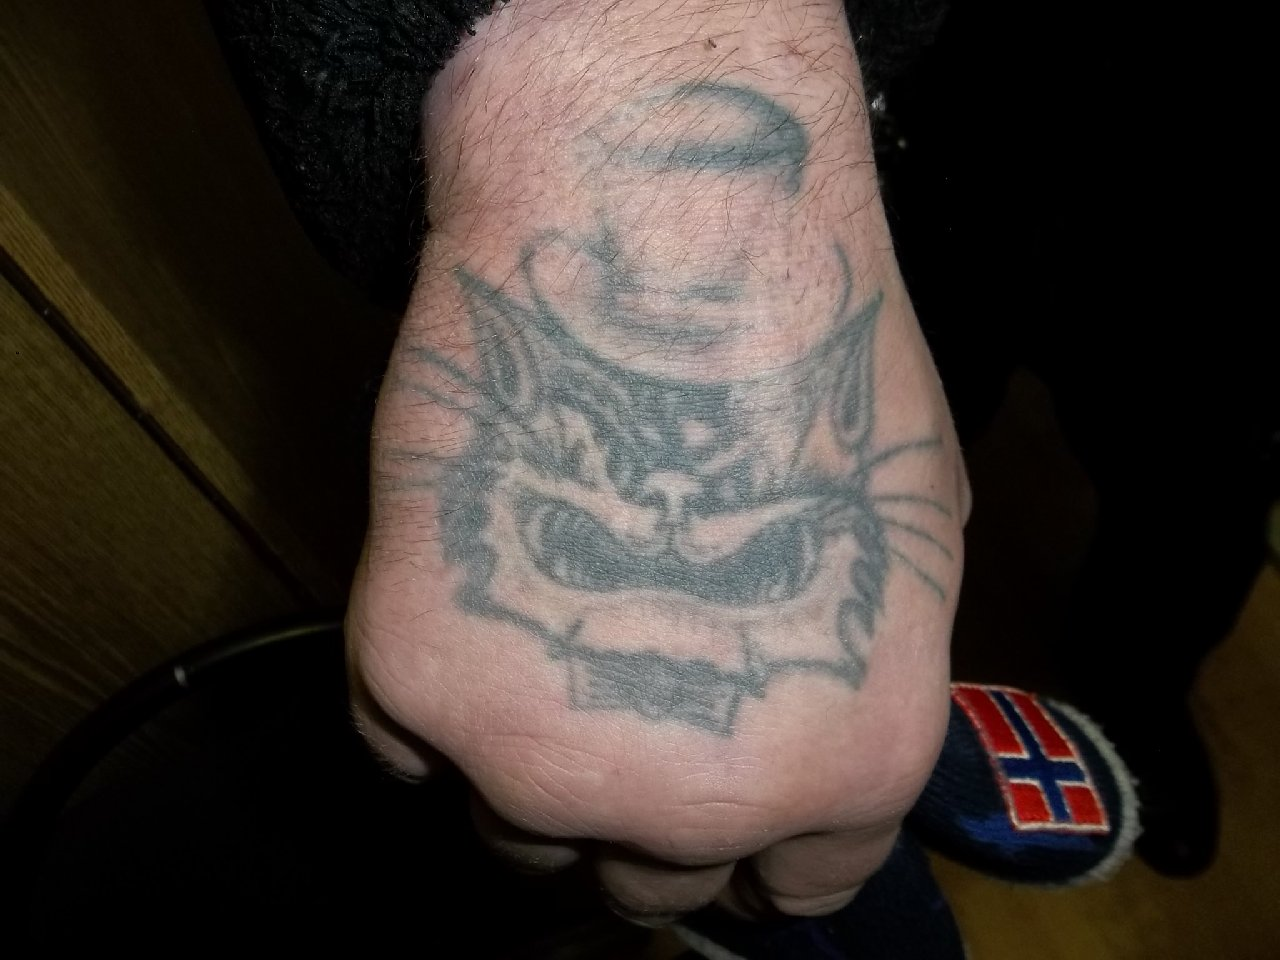tatu8_kot: (410, 86, 965, 734)
